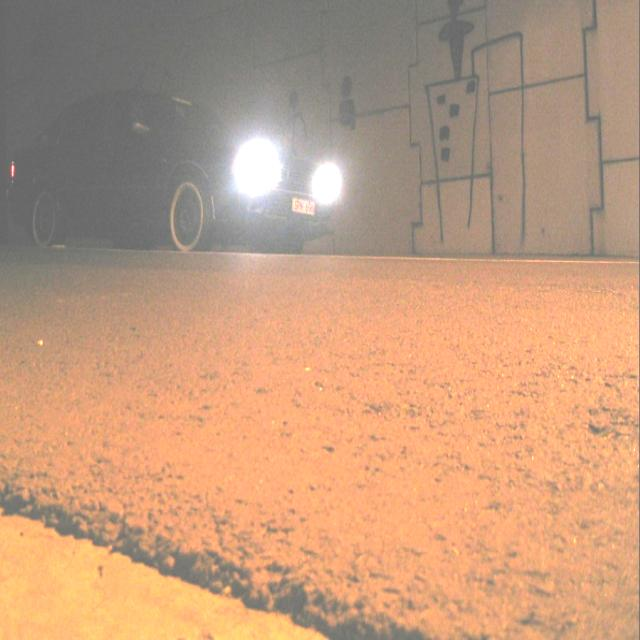Car: (5, 88, 337, 267)
